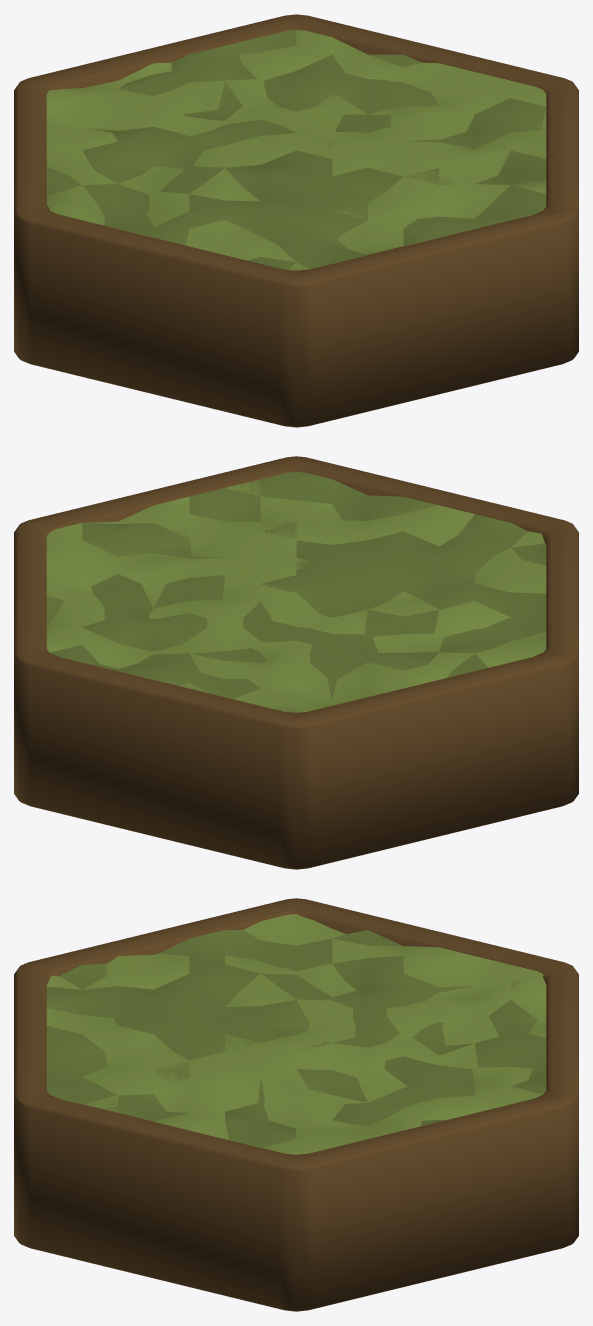
Rendered from grasshex.fbx.
The picture shows the model from 3 angles, top to bottom: view 1: azimuth 30°, elevation 25°; view 2: azimuth 150°, elevation 25°; view 3: azimuth 270°, elevation 25°; orthographic projection.
Visible parts, largest first — view 1: Cylinder.008, Cylinder.009, Cylinder.010; view 2: Cylinder.008, Cylinder.009, Cylinder.010; view 3: Cylinder.008, Cylinder.009, Cylinder.010.
Boxes of the visible parts, x1,y1,x2,y2 form: Cylinder.008: [14, 14, 578, 427]; Cylinder.009: [46, 30, 546, 270]; Cylinder.010: [46, 30, 546, 269]; Cylinder.008: [14, 456, 578, 869]; Cylinder.009: [46, 480, 546, 712]; Cylinder.010: [46, 472, 546, 712]; Cylinder.008: [14, 898, 578, 1311]; Cylinder.009: [46, 914, 546, 1154]; Cylinder.010: [46, 930, 546, 1153].
Bounding box in the file's own units: 197 × 50 × 173.
